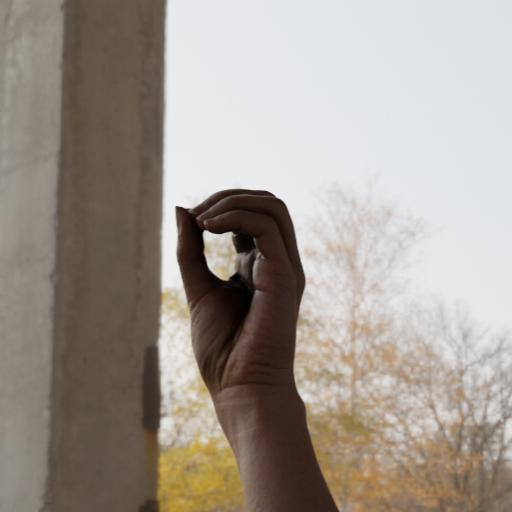O: (156, 161, 328, 436)
